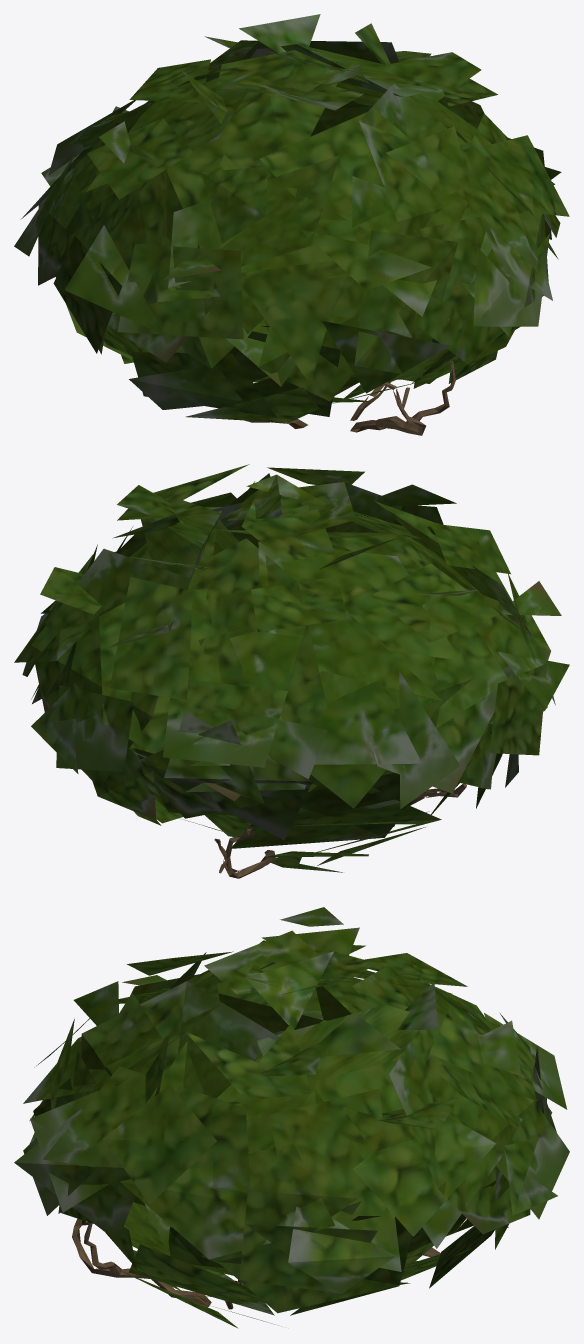
File: bush.glb
The picture shows the model from 3 angles, top to bottom: view 1: azimuth 30°, elevation 25°; view 2: azimuth 150°, elevation 25°; view 3: azimuth 270°, elevation 25°; orthographic projection.
Parts seen in each view (by area): view 1: geometry_0; view 2: geometry_0; view 3: geometry_0.
Boxes of the visible parts, x1,y1,x2,y2 form: geometry_0: [14, 14, 569, 435]; geometry_0: [14, 464, 569, 878]; geometry_0: [14, 907, 569, 1328].
Bounding box in the file's own units: 0.9561 × 0.6226 × 0.9229.
1 material, 1 textured.
